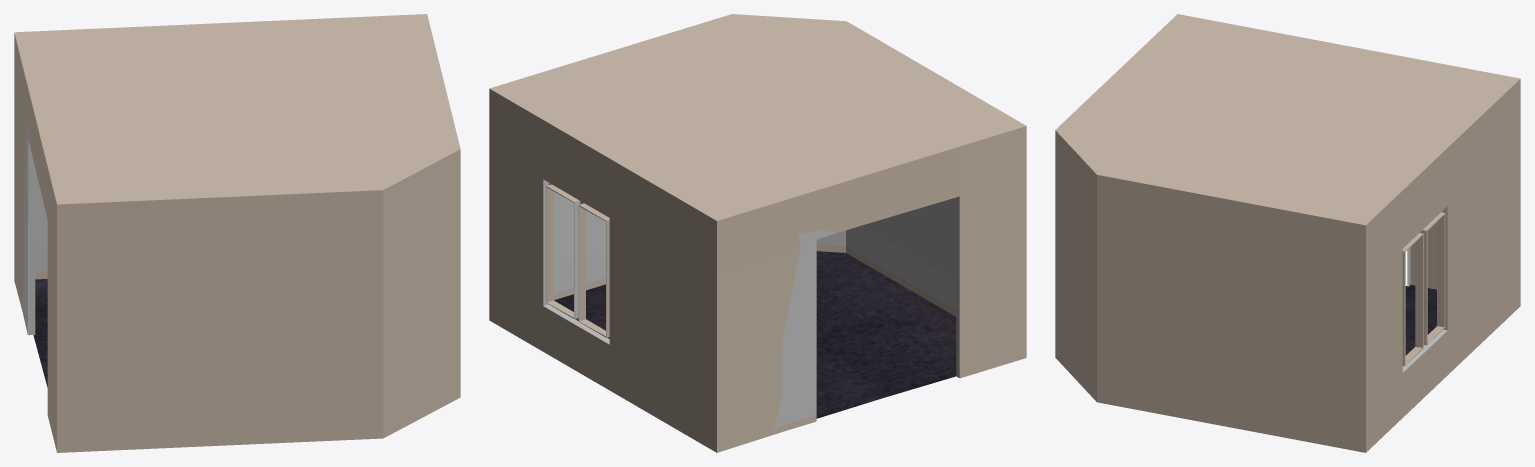
File: piece1.fbx
The picture shows the model from 3 angles, left to right: view 1: azimuth 30°, elevation 25°; view 2: azimuth 150°, elevation 25°; view 3: azimuth 270°, elevation 25°; orthographic projection. The views are drawn at different scales.
Visible parts, largest first — view 1: 1; view 2: 1; view 3: 1.
Boxes of the visible parts, left/top/right/bottom form: 1: left=14, top=14, right=460, bottom=452; 1: left=489, top=14, right=1026, bottom=452; 1: left=1055, top=14, right=1520, bottom=452.
Bounding box in the file's own units: 922 × 463 × 858.
